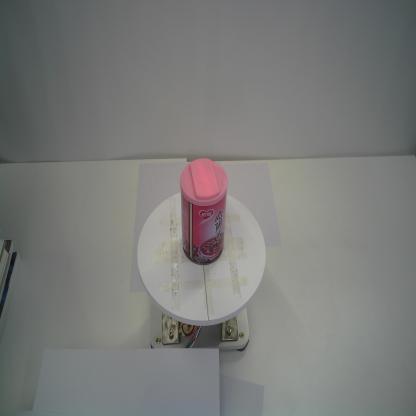Canned Food: (178, 155, 229, 270)
